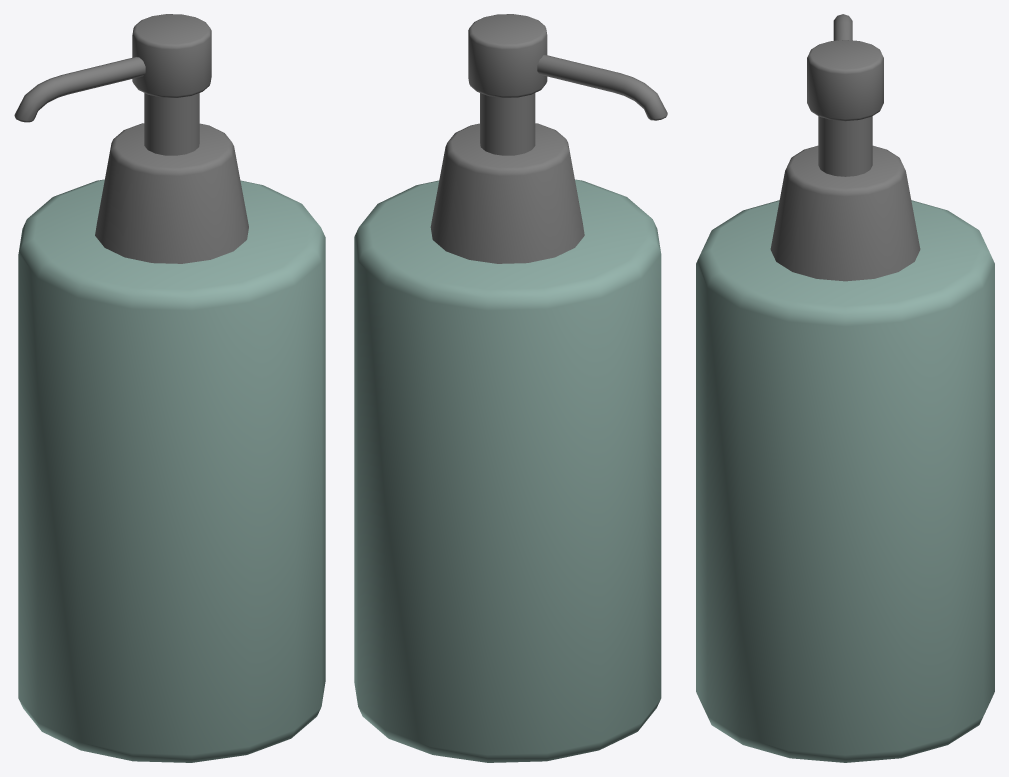
File: soap dispenser.FBX
The picture shows the model from 3 angles, left to right: view 1: azimuth 30°, elevation 25°; view 2: azimuth 150°, elevation 25°; view 3: azimuth 270°, elevation 25°; orthographic projection. The views are drawn at different scales.
Parts seen in each view (by area): view 1: soap dispenser; view 2: soap dispenser; view 3: soap dispenser.
Part boxes in pixels (box(x1,y1,x2,y2)): soap dispenser: box(14, 14, 325, 762); soap dispenser: box(354, 14, 667, 762); soap dispenser: box(696, 14, 994, 762).
Bounding box in the file's own units: 4.32 × 3.98 × 9.56.
1 material, 1 textured.
